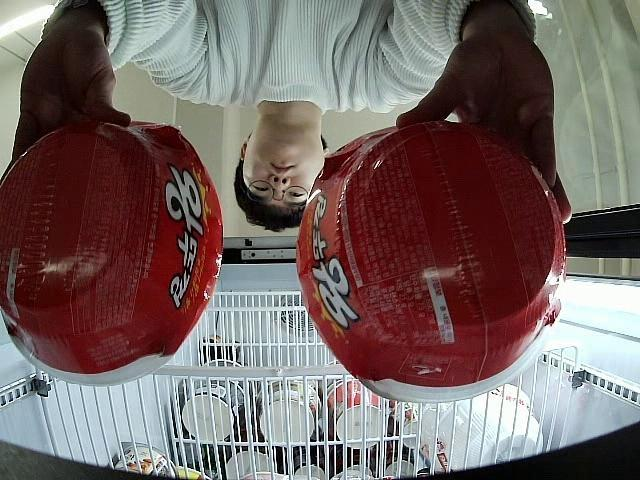10_wangTtukkeong: (297, 121, 566, 404), (0, 123, 222, 388)
